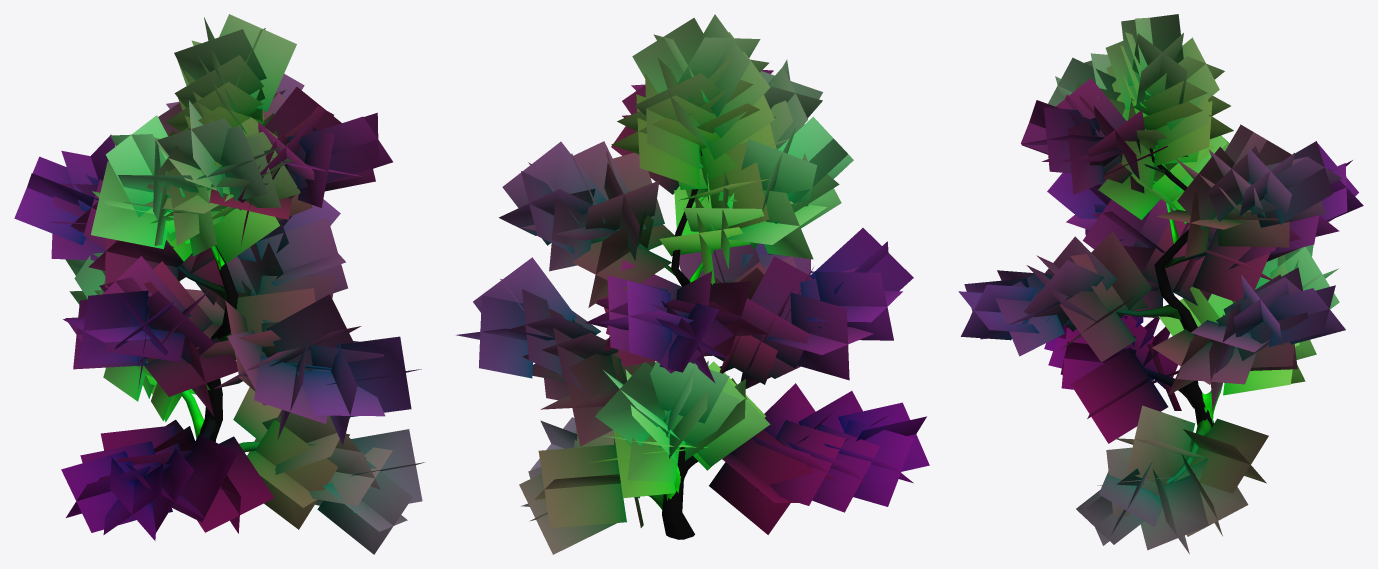
Rendered from M_P11_Tree_5.fbx.
3 views of the same model, side by side, from view 1: azimuth 30°, elevation 25°; view 2: azimuth 150°, elevation 25°; view 3: azimuth 270°, elevation 25° (orthographic). The views are drawn at different scales.
Parts seen in each view (by area): view 1: Tree_5; view 2: Tree_5; view 3: Tree_5.
Boxes of the visible parts, <box> form: Tree_5: <box>14,14,425,554</box>; Tree_5: <box>456,14,929,554</box>; Tree_5: <box>958,14,1363,554</box>.
Bounding box in the file's own units: 560 × 825 × 634.
